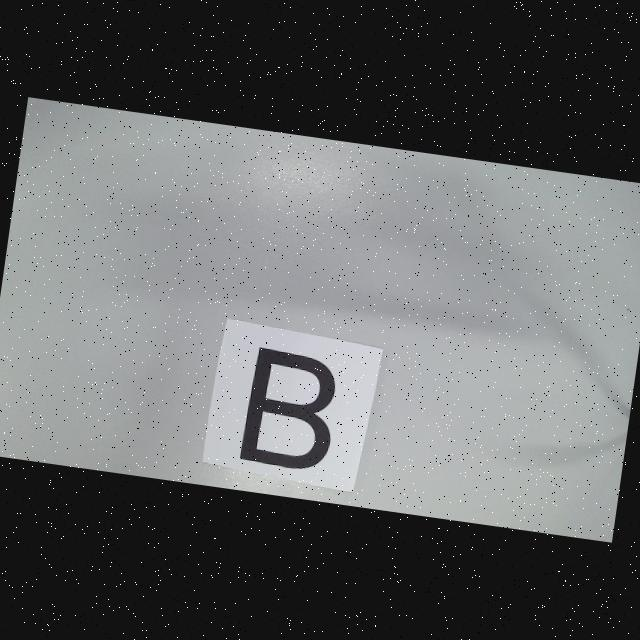FAKE: (240, 348, 342, 474)
